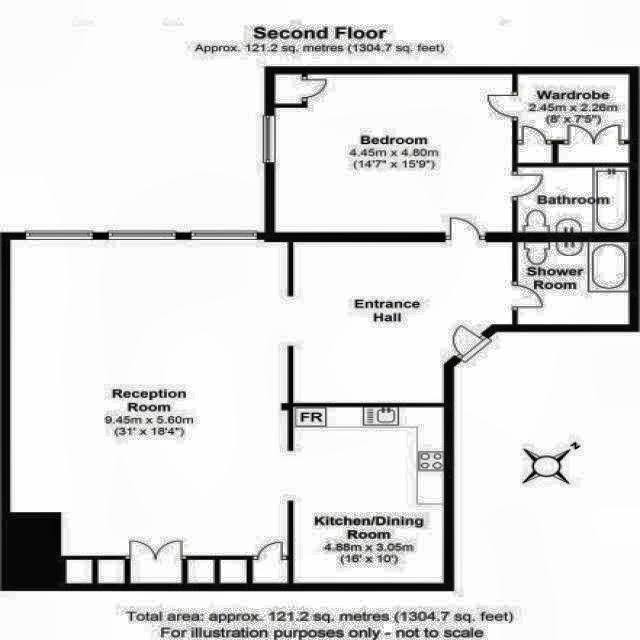room: (11, 240, 292, 557), (275, 74, 512, 232), (293, 242, 513, 404), (295, 408, 443, 583), (519, 75, 628, 163), (518, 242, 629, 324), (519, 168, 629, 232), (131, 559, 181, 583), (253, 560, 288, 583), (276, 74, 301, 104), (219, 560, 246, 584), (187, 560, 213, 583), (66, 560, 91, 583), (99, 560, 124, 583)
